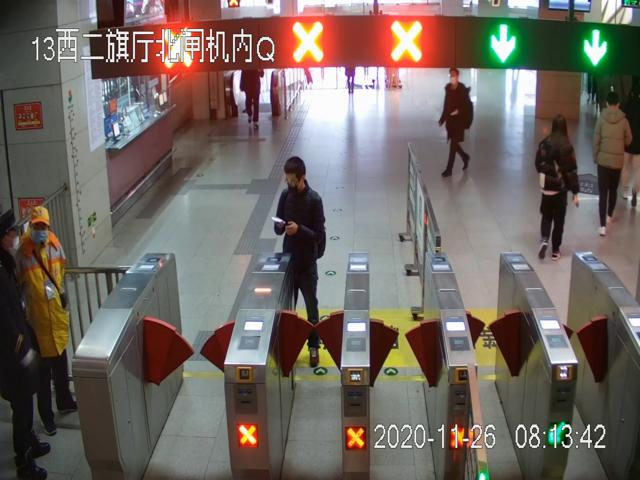person: (19, 207, 80, 435), (275, 156, 328, 372), (535, 115, 579, 268)
